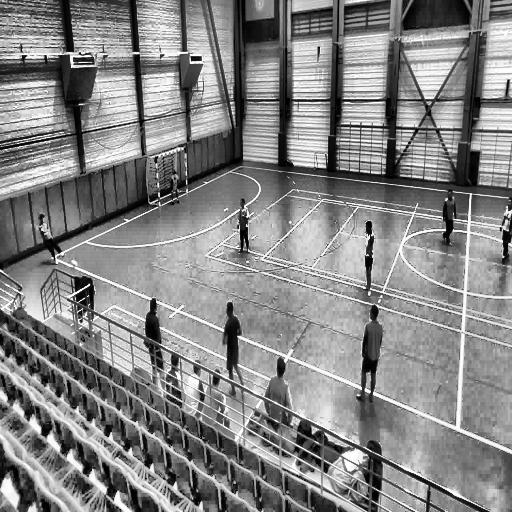ball: (71, 257, 80, 272)
player: (356, 304, 382, 406), (222, 300, 244, 394), (38, 212, 67, 268), (362, 219, 376, 294), (498, 194, 512, 264), (441, 188, 457, 248), (237, 196, 250, 254), (170, 170, 181, 207)
